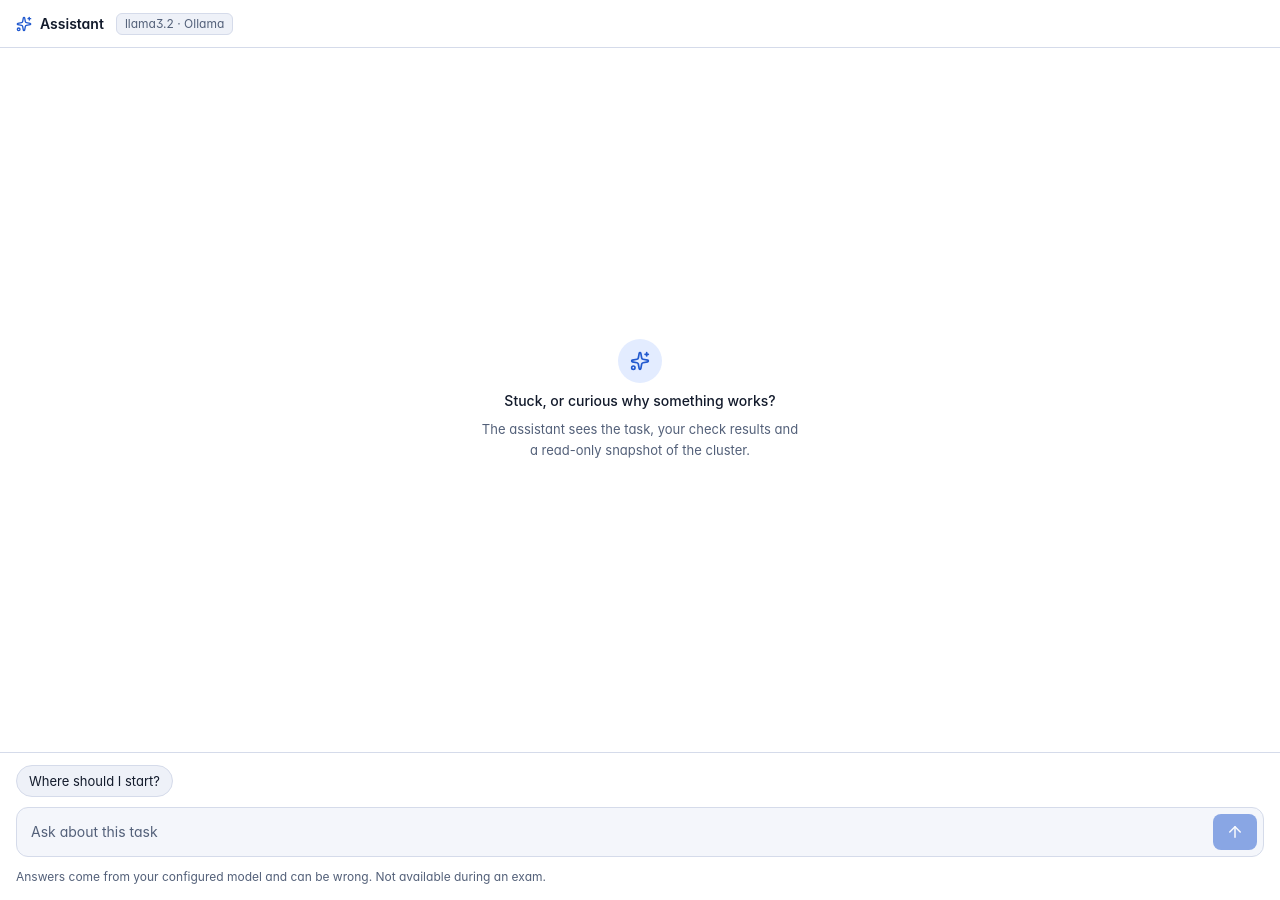
Test: AssistantPanel › sends with Enter and makes a line break with Shift+Enter
Expected: the button named "Send" is disabled, [1213,814,1257,850]
Press Enter in the text box named "Ask the assistant", box [31,814,1205,850]
Type "first line" into the text box named "Ask the assistant" at (618, 832), box [31,814,1205,850]
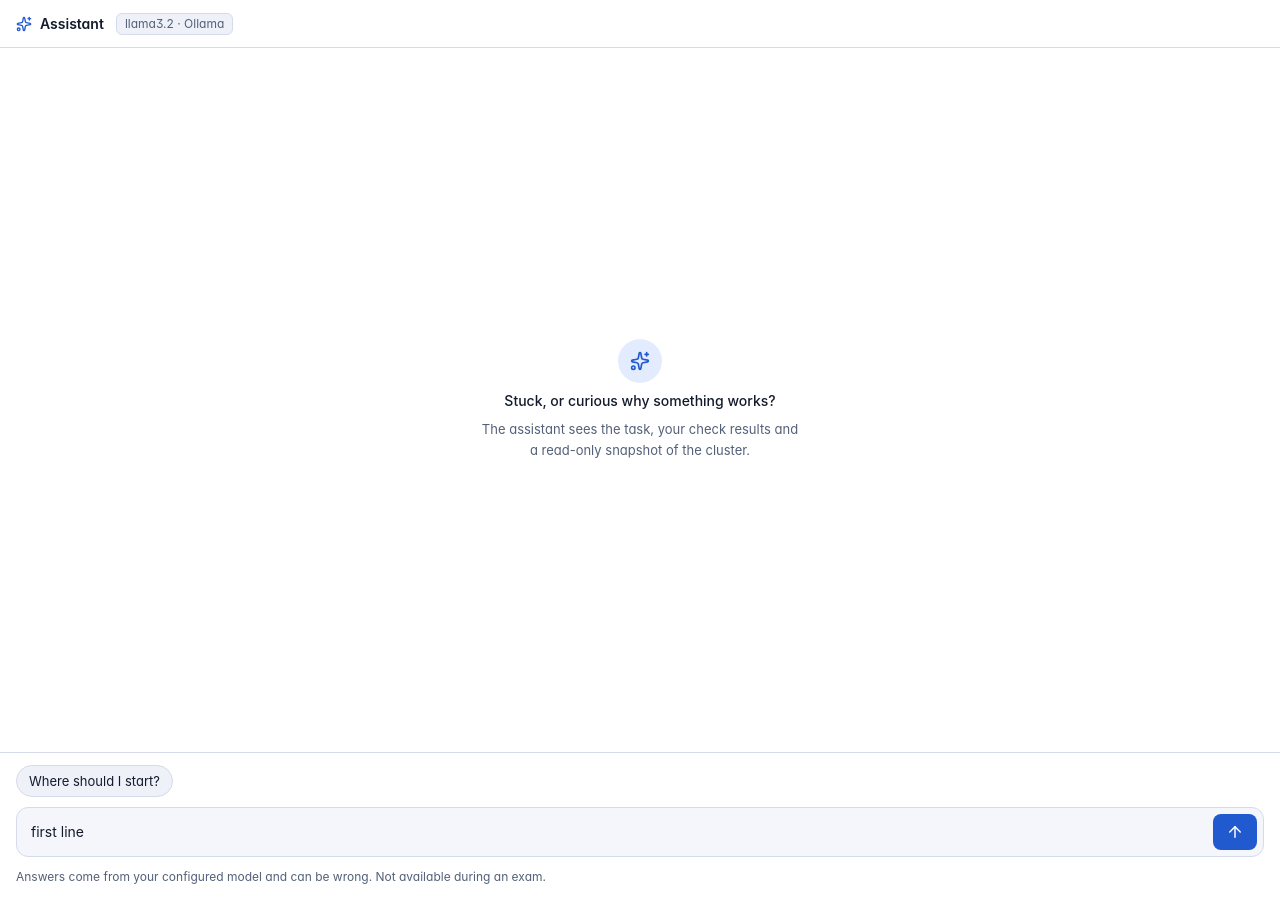
Result: the button named "Send" is enabled at [1213,814,1257,850]
Press Enter in the text box named "Ask the assistant", box [31,814,1205,850]
Press Enter in the text box named "Ask the assistant", box [31,814,1205,850]
Press Enter in the text box named "Ask the assistant", box [31,814,1205,850]
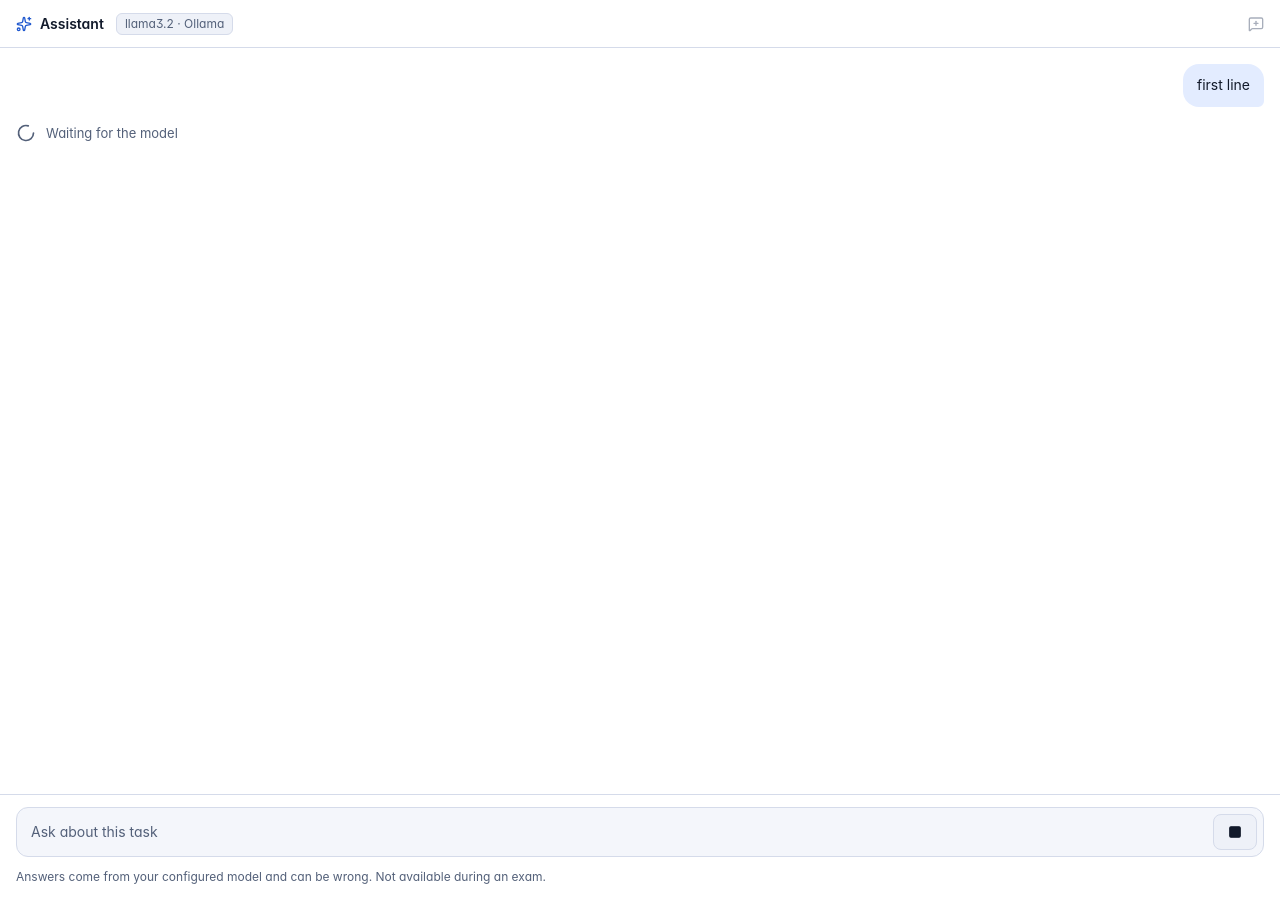
Result: the text box named "Ask the assistant" is empty at [31,814,1205,850]
Result: the text "first line" is shown at [1183,64,1264,107]
